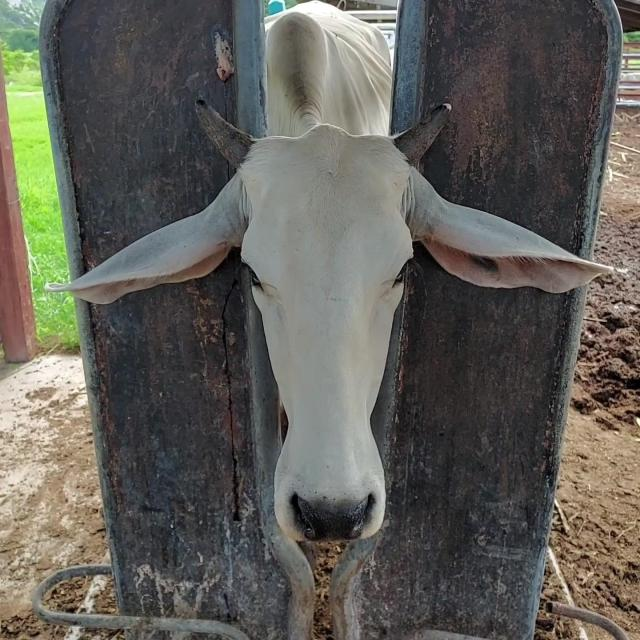cowFace: (250, 122, 422, 538)
